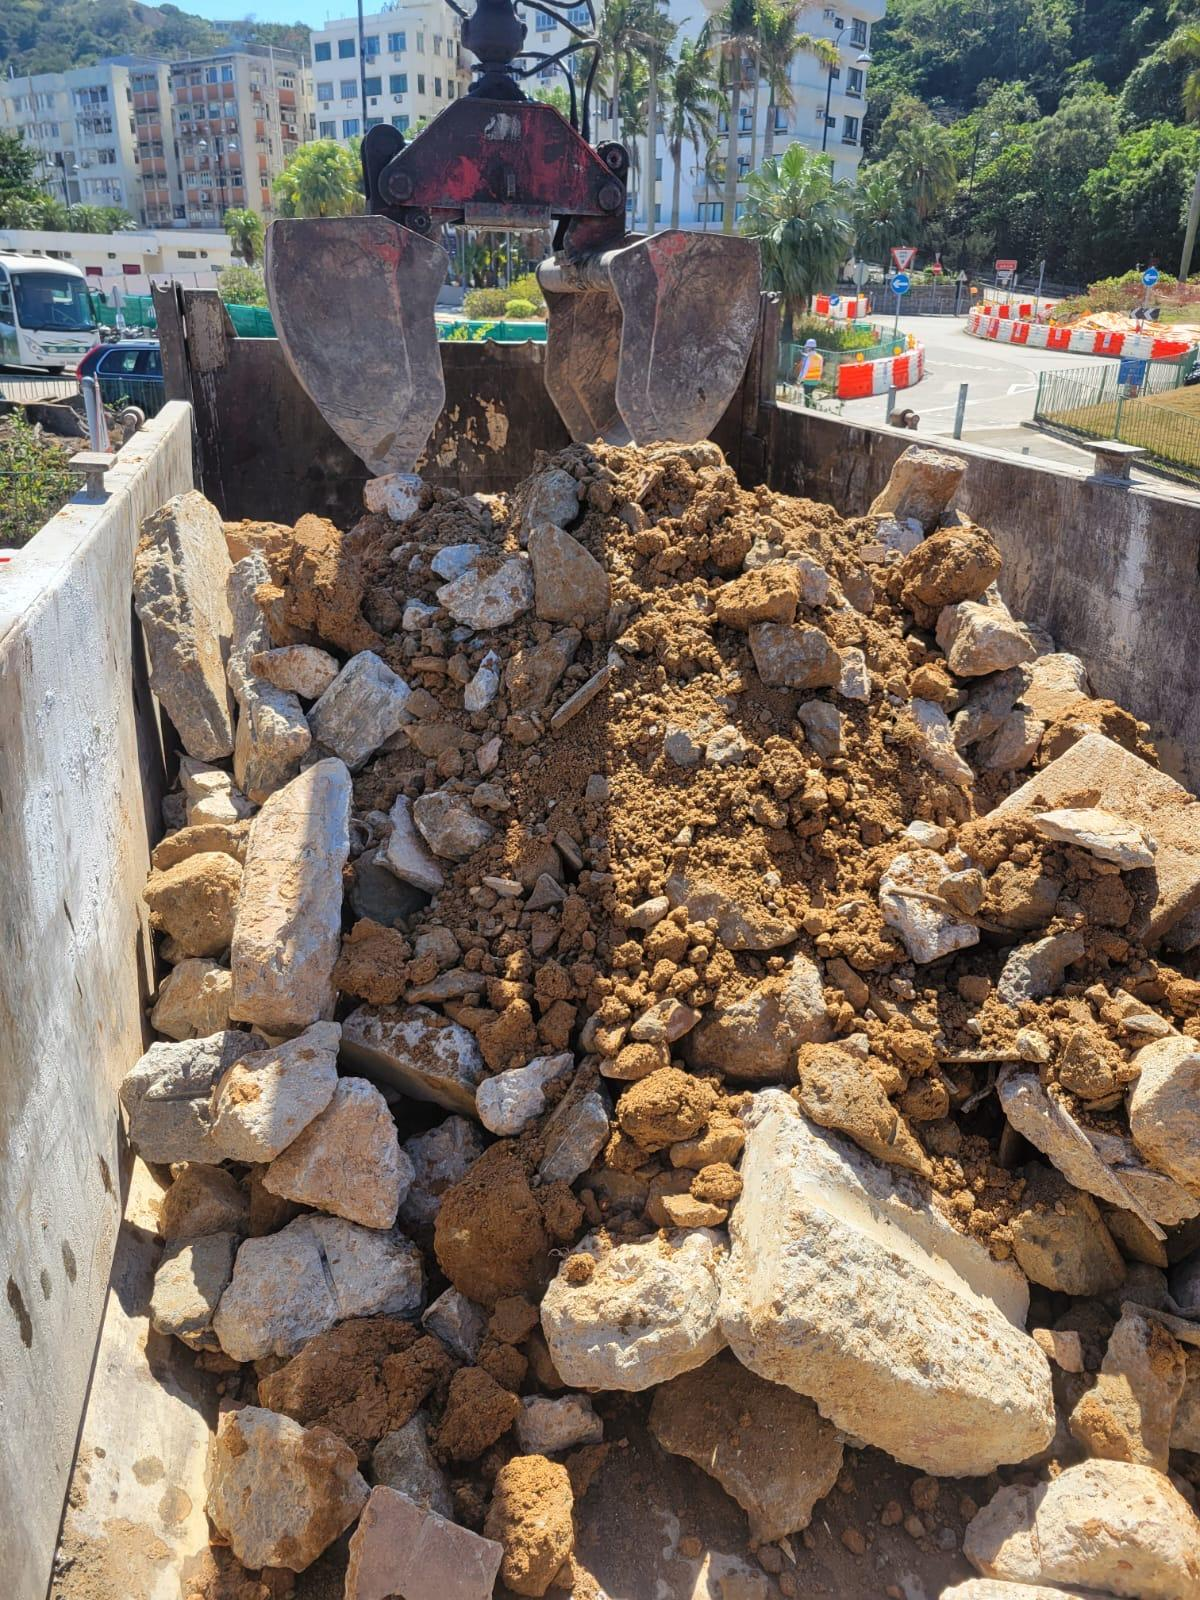dry: (150, 452, 1185, 1587)
